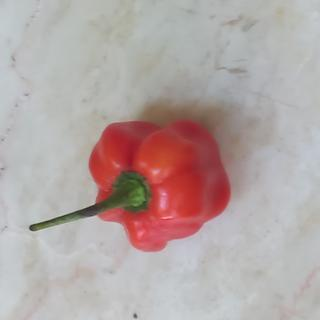Grade-B: (84, 114, 234, 255)
